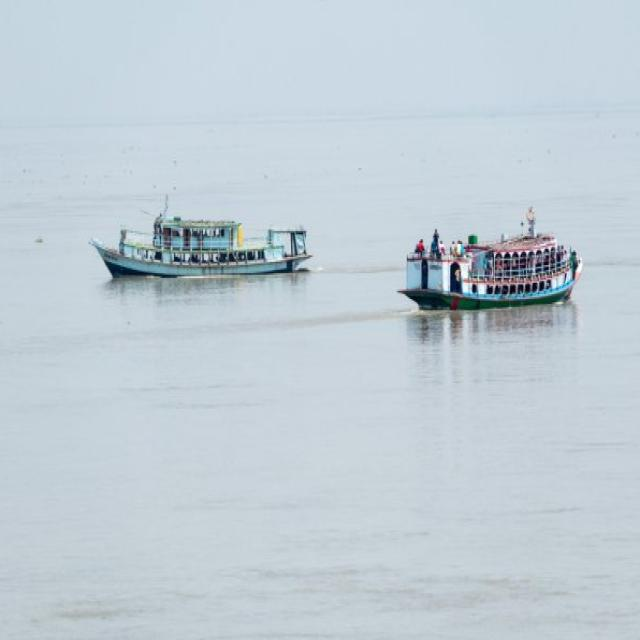houseboat: (393, 195, 584, 312), (93, 195, 316, 286)
